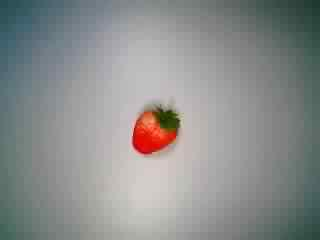strawberry: (119, 97, 187, 161)
